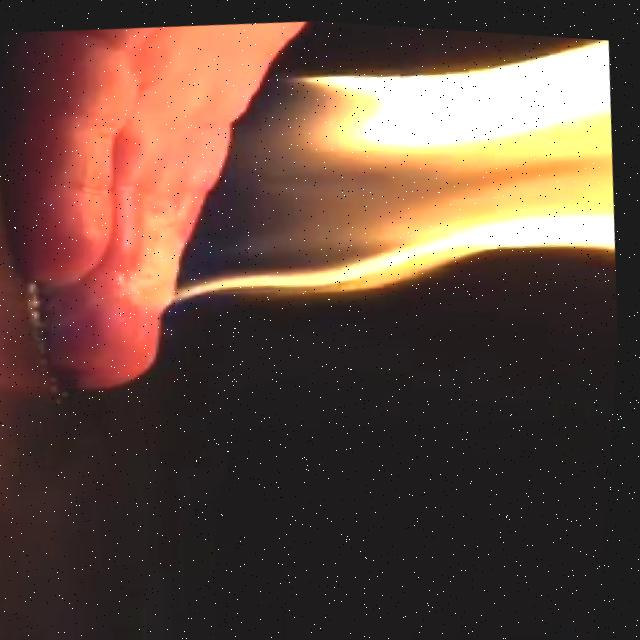Fire: (99, 6, 635, 339)
